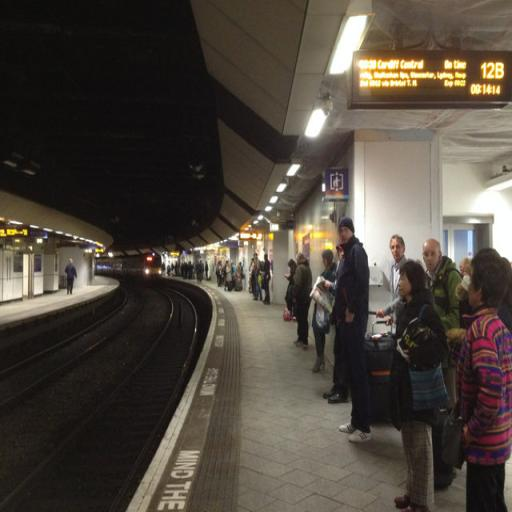platform_edge: (122, 309, 254, 512)
